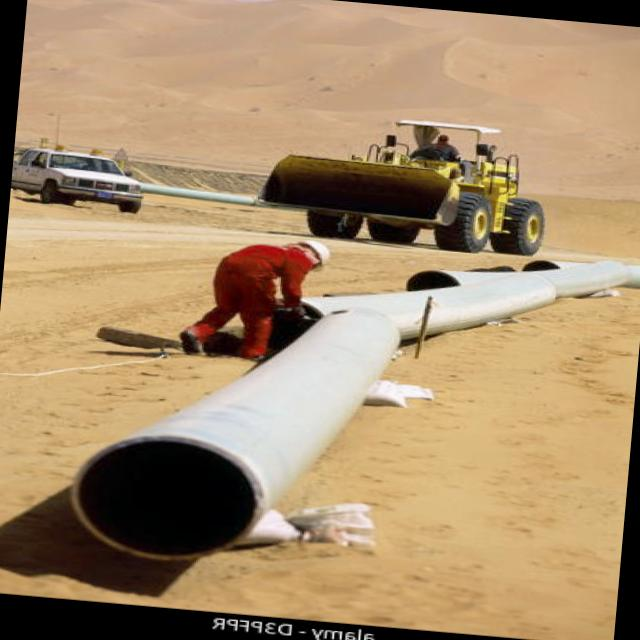gas: (73, 260, 640, 557)
